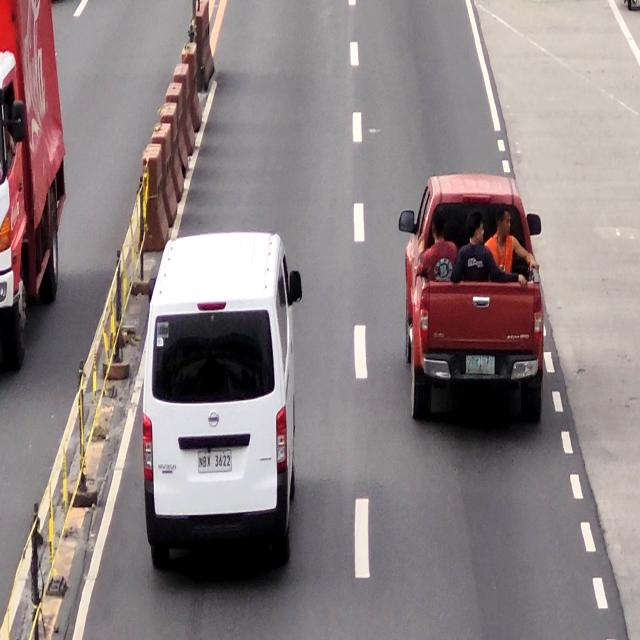Car: (143, 239, 294, 566), (407, 175, 542, 422)
License-Plate: (198, 447, 233, 472), (466, 357, 496, 378)
